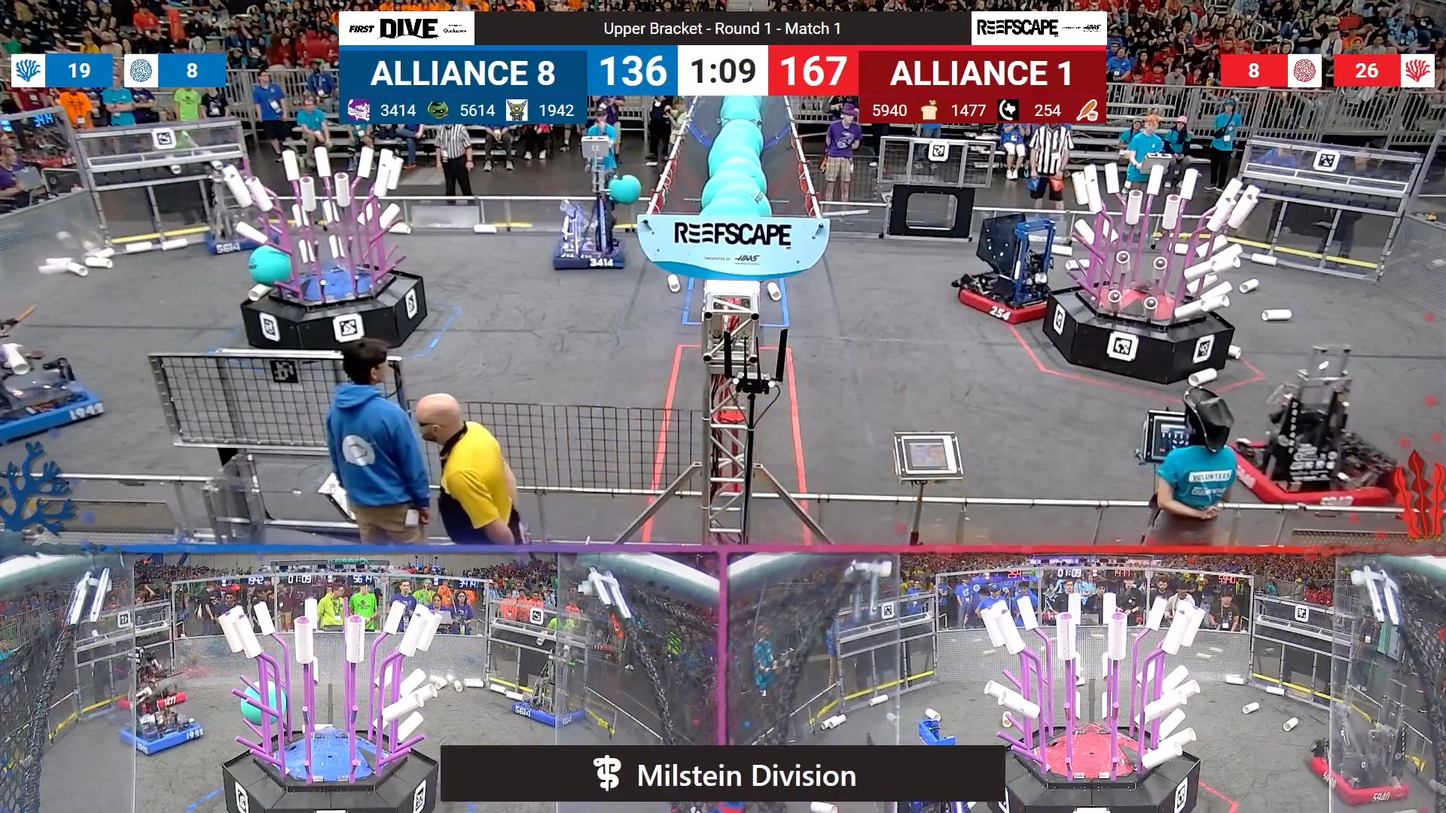bumpers: (1222, 433, 1411, 514), (1, 375, 111, 452), (1298, 743, 1422, 808), (948, 279, 1062, 329), (114, 714, 212, 759), (545, 233, 638, 278), (200, 220, 289, 256), (507, 696, 591, 732)
